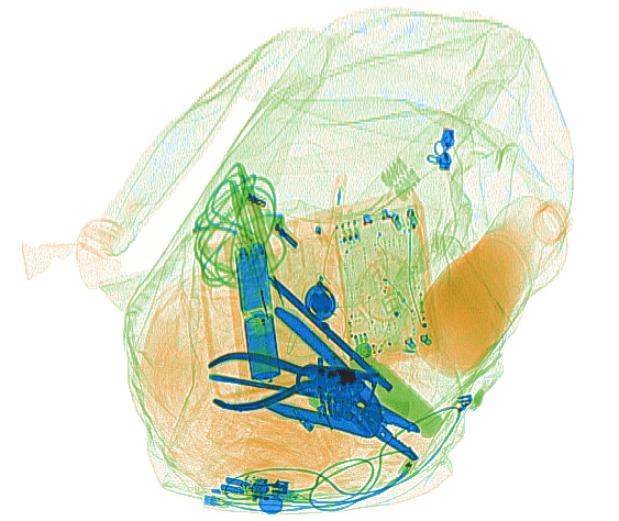battery: (240, 311, 282, 382), (235, 240, 273, 315)
